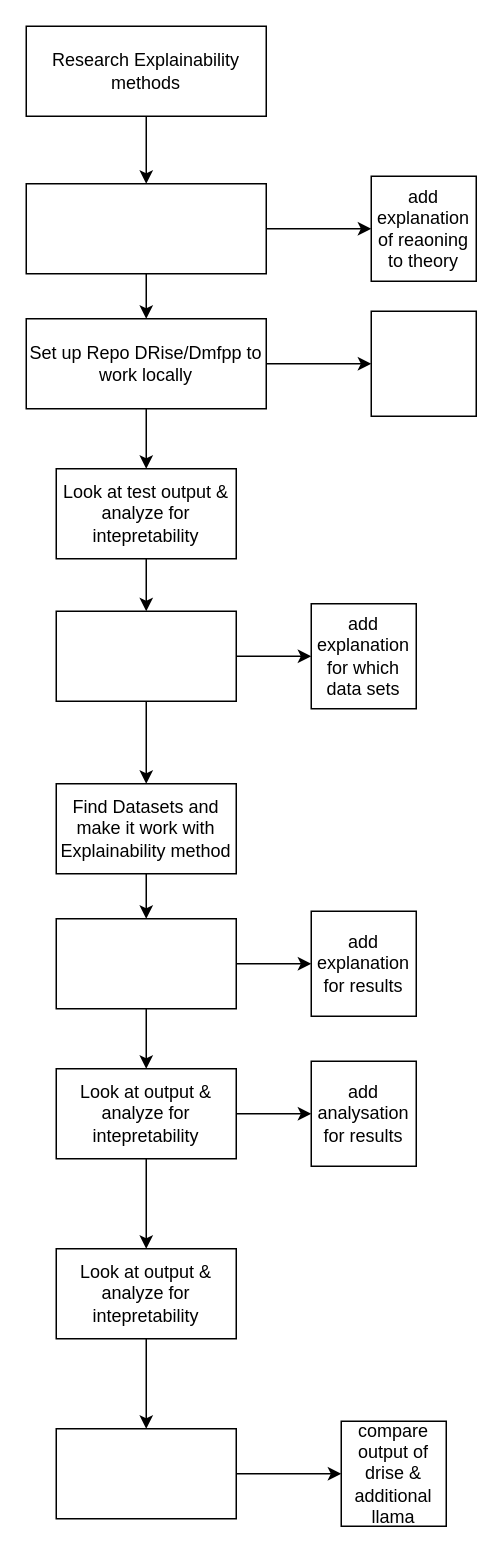
Image size: 503x1554. Some labels were removed from this diagram. Here are the shapes that lost their labels. From the top down, the centre of each, then its label:
At (145,228): "Choose Explainability method".
At (423,363): "add theory of method to theory".
At (145,655): "make test output work with llama".
At (145,963): "Run for Different Datasets".
At (145,1473): "anaylze different people groups reaction to interpreatbility".
